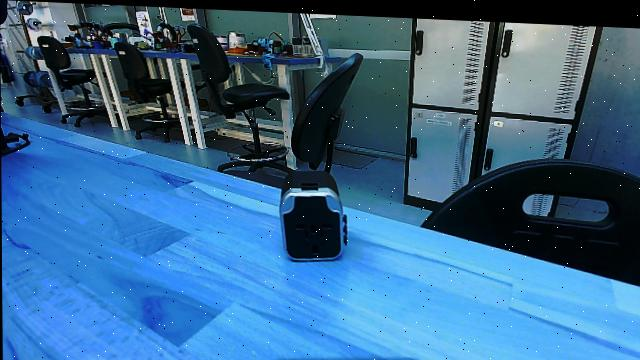adapter: (277, 161, 353, 269)
